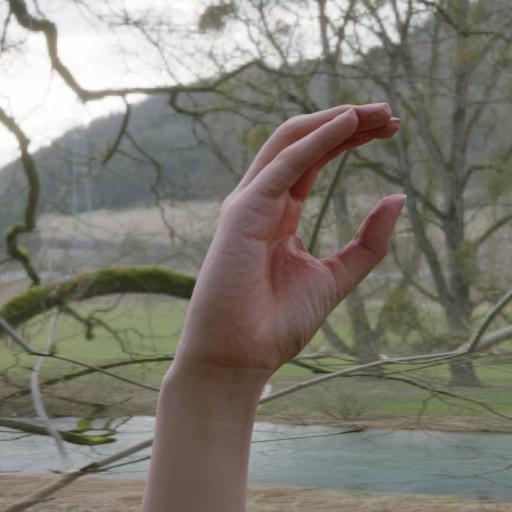C: (202, 82, 422, 404)
